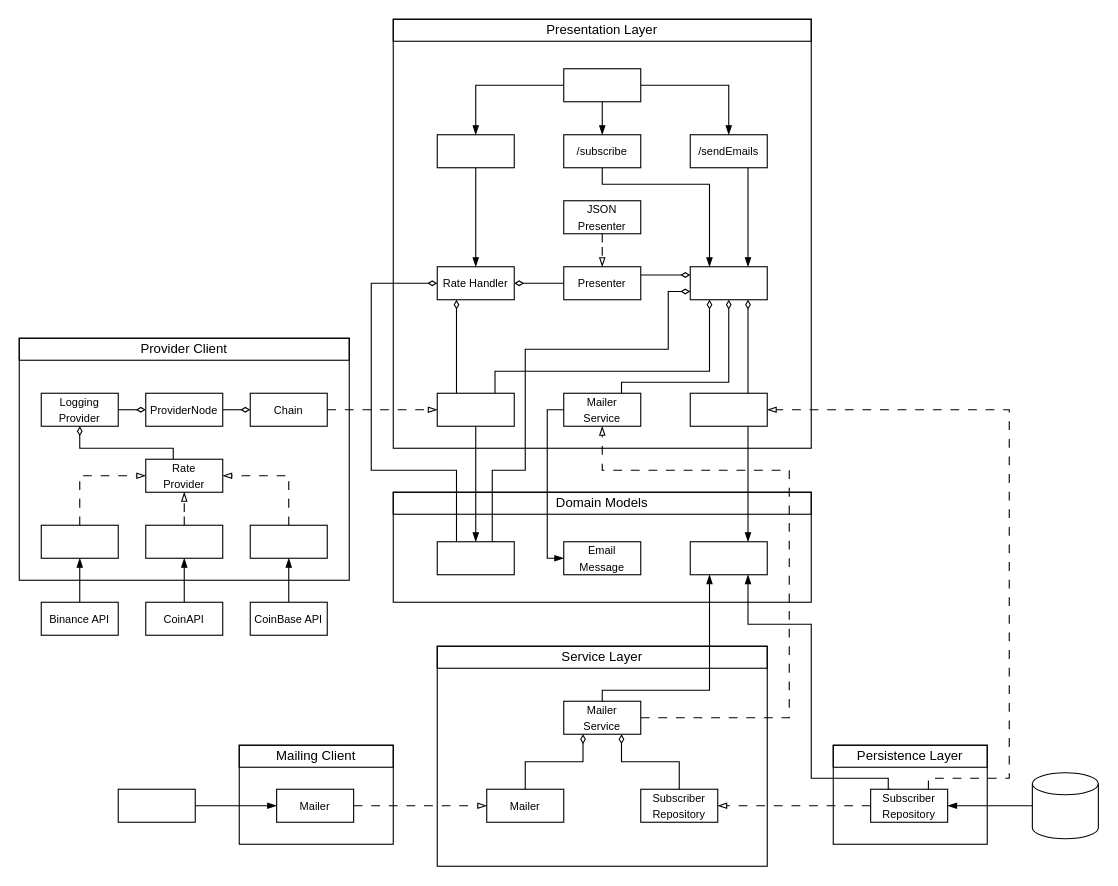
The diagram is 1118 pixels wide and 886 high, and some of its shapes have lost their labels. The shapes that lost their labels are listed below. From the top down, each one's centre as x and y in pixels, then its label:
At point 602,85: "HTTP Server".
At point 475,151: "/rate".
At point 728,283: "Mailer Handler".
At point 475,409: "ExchangeRate Provider".
At point 728,409: "Subscription Repositoy".
At point 79,541: "Binance Provider".
At point 184,541: "CoinAPI Provider".
At point 288,541: "CoinBase Provider".
At point 475,558: "Currency".
At point 728,558: "Subscriber".
At point 156,805: "Gmail API".
At point 1064,805: "emails.txt".
